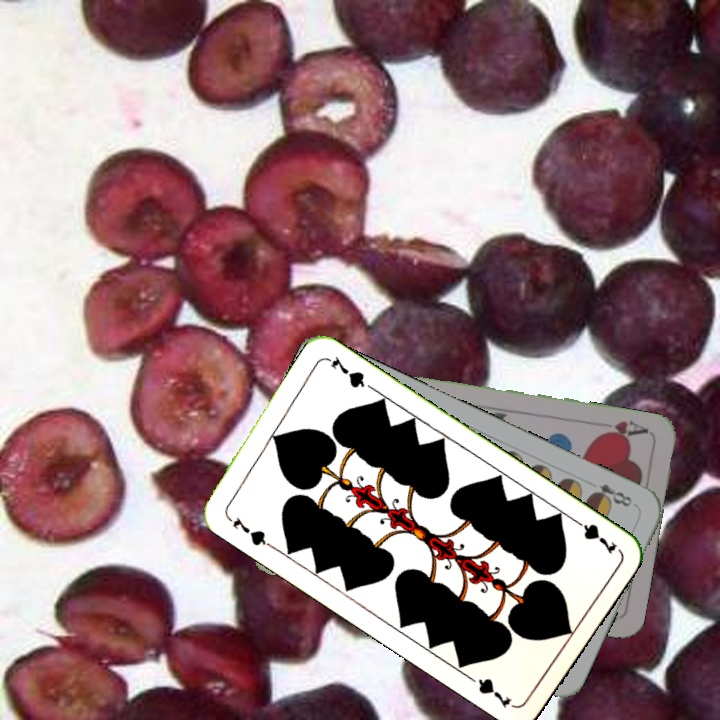E8: (586, 479, 635, 510)
G7: (568, 514, 620, 557), (222, 511, 274, 550)
HA: (594, 416, 651, 443)
